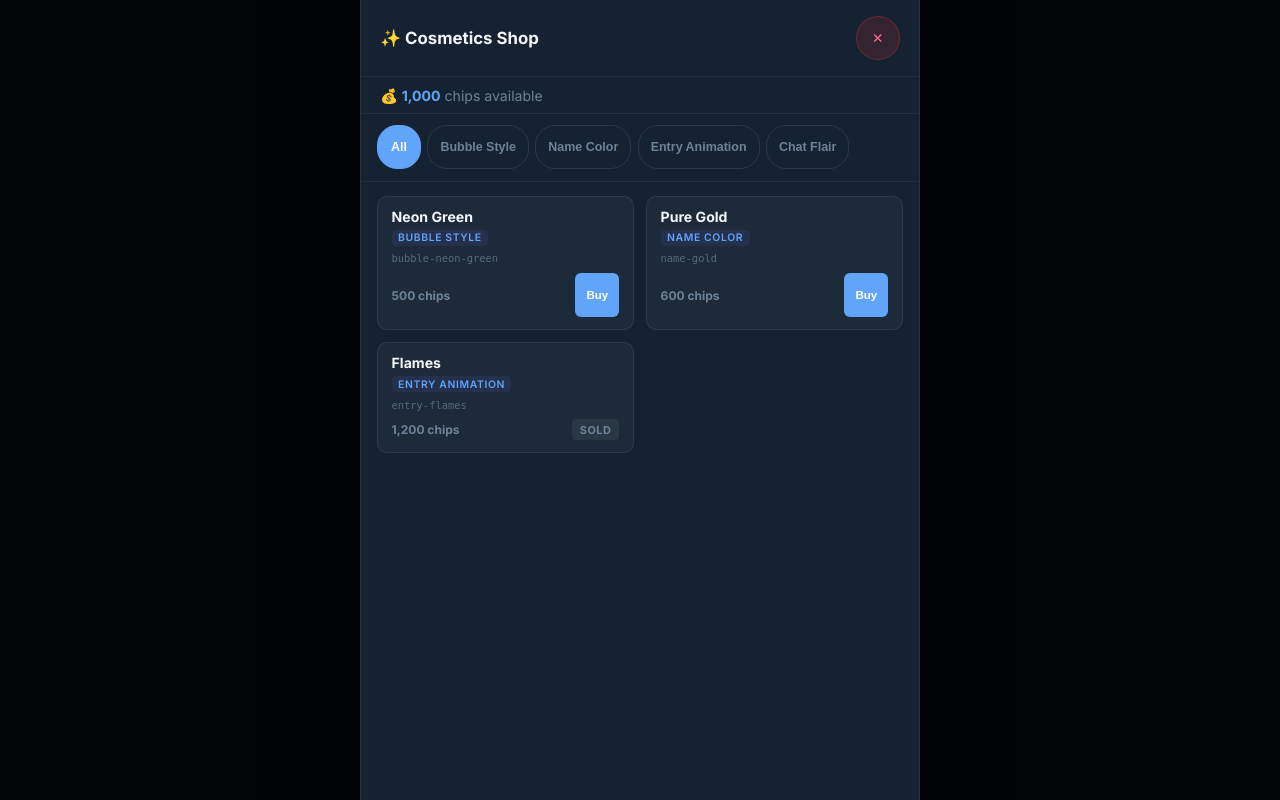
Test: CosmeticsShop › category filter tabs › filtering by "Bubble Style" shows only bubbleStyle items
Click the button "Bubble Style". click: click(478, 147)
box: [427,125,529,169]
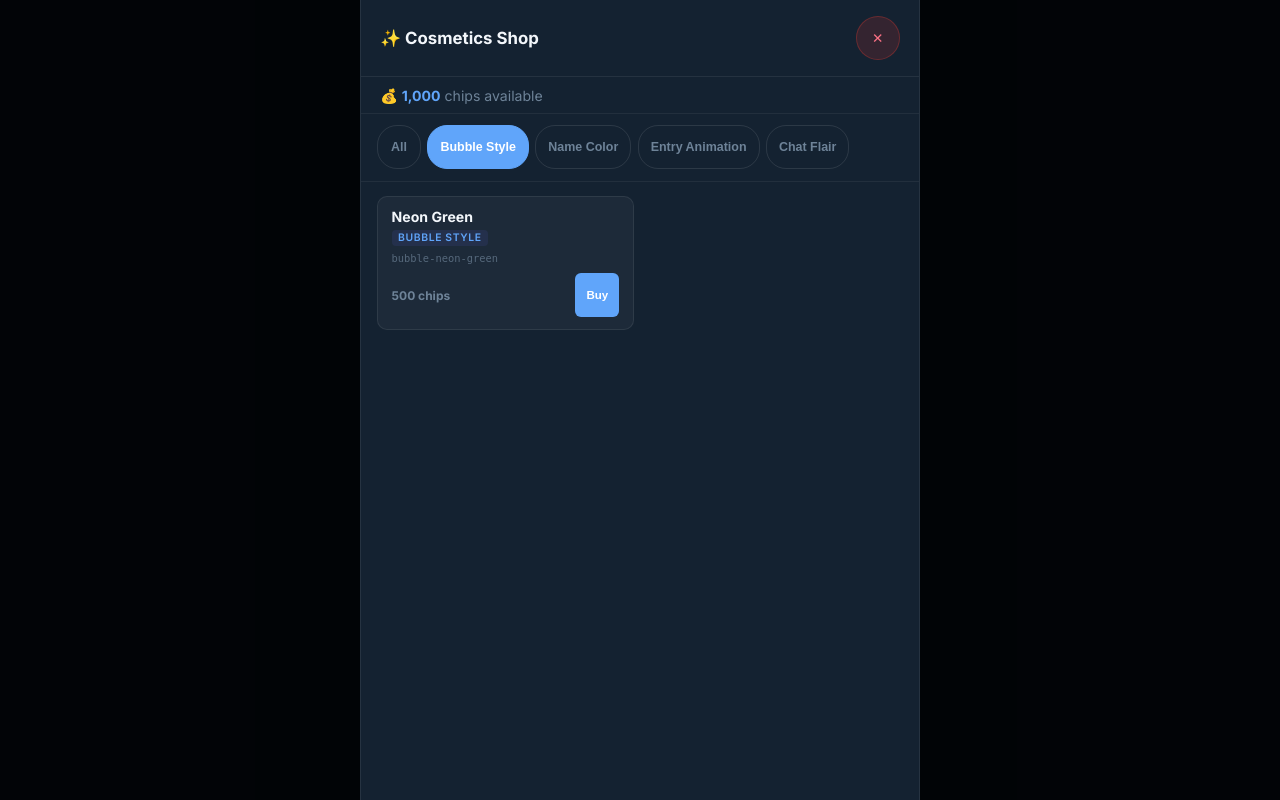
Expected: the text "Neon Green" is shown, [392,208,473,225]
Expected: the text "Pure Gold" is gone
